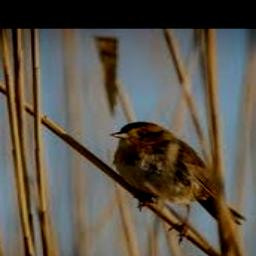Sparrow: (110, 121, 246, 242)
